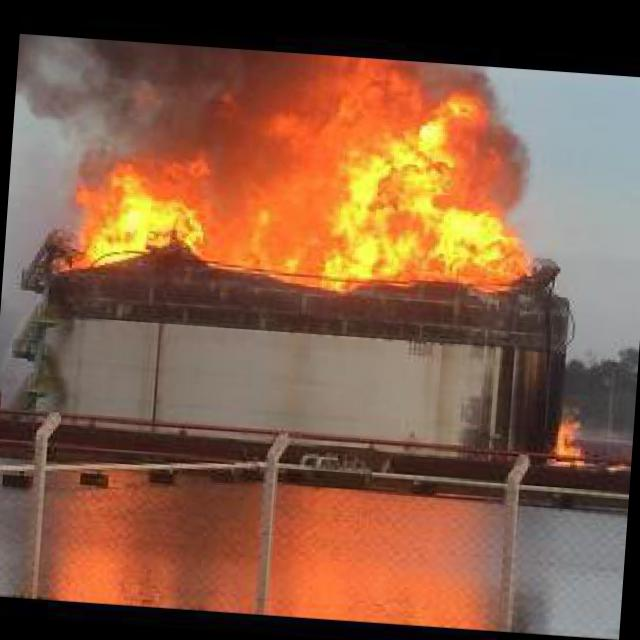fire: (56, 72, 522, 303), (549, 412, 587, 462)
smoke: (10, 31, 259, 180)
